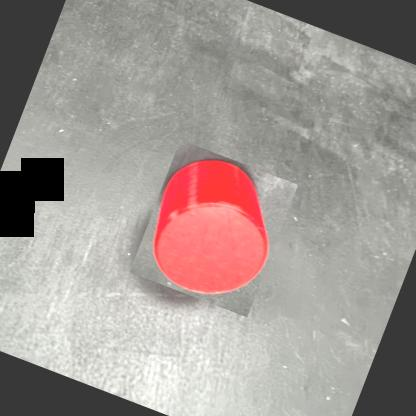red cylinder: (128, 140, 298, 318)
